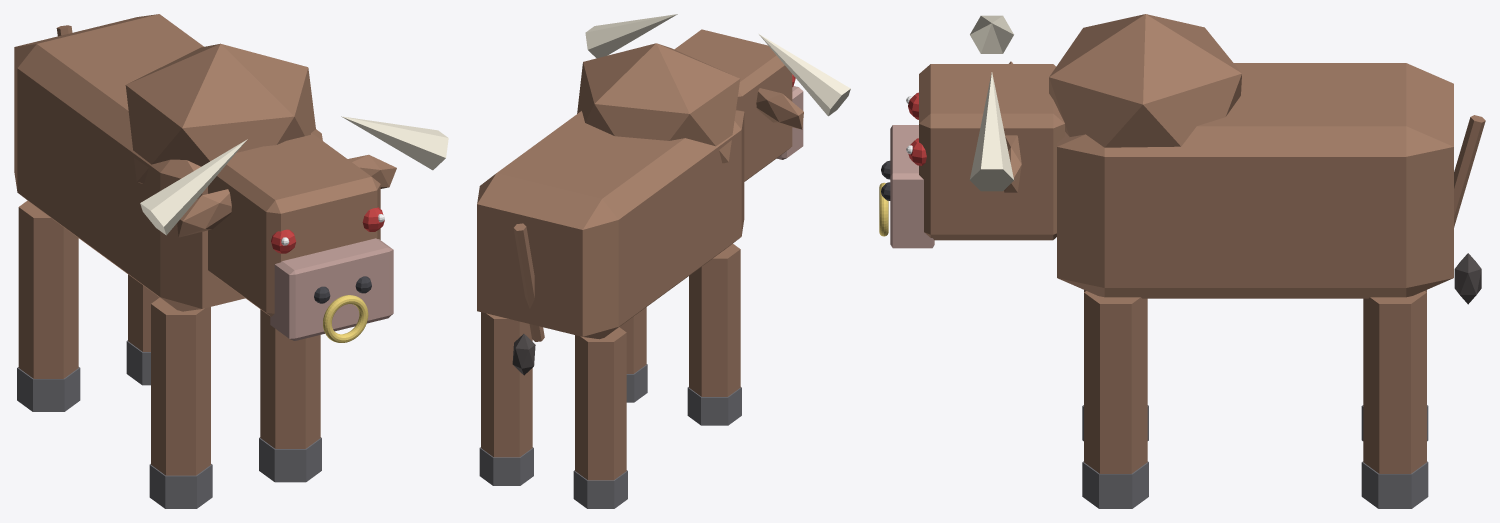
File: Bull.fbx
3 renders of one model, left to right at view 1: azimuth 30°, elevation 25°; view 2: azimuth 150°, elevation 25°; view 3: azimuth 270°, elevation 25°, orthographic. The views are drawn at different scales.
Parts seen in each view (by area): view 1: Bull; view 2: Bull; view 3: Bull.
Part boxes in pixels (<box>): Bull: <box>14,14,448,508</box>; Bull: <box>477,14,850,508</box>; Bull: <box>879,14,1485,508</box>.
Size of the model in its own units: 1.14 by 1.58 by 1.91.
